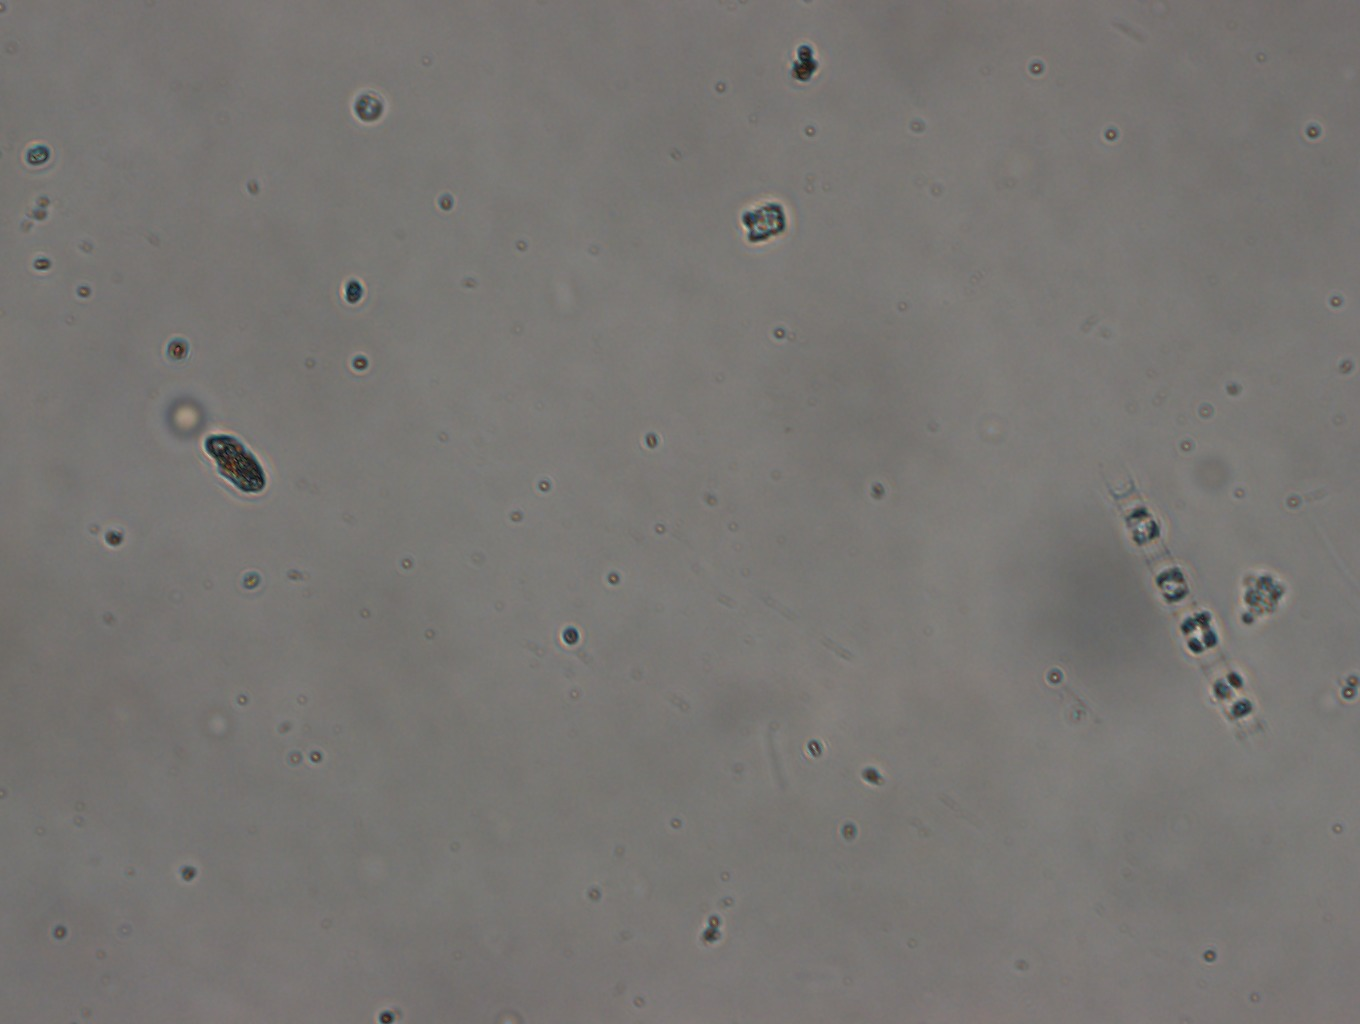skeletonema: (1099, 473, 1259, 742)
